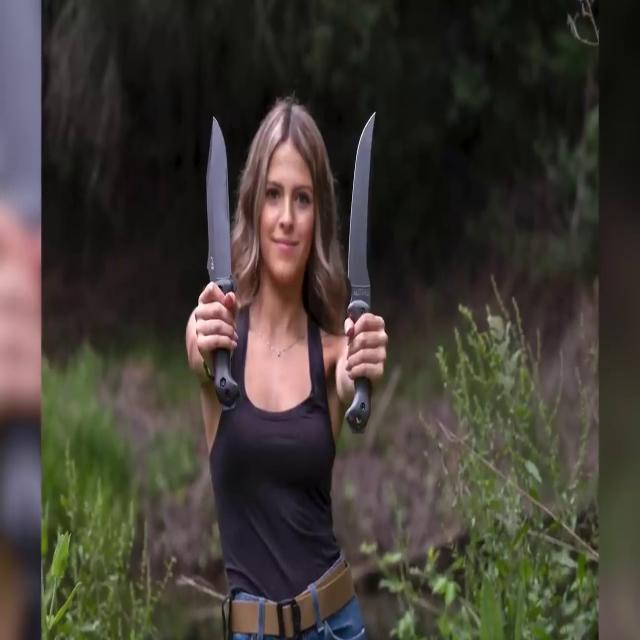Knife: (339, 105, 388, 443), (194, 98, 244, 425)
